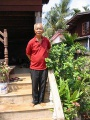male: (30, 23, 49, 40)
